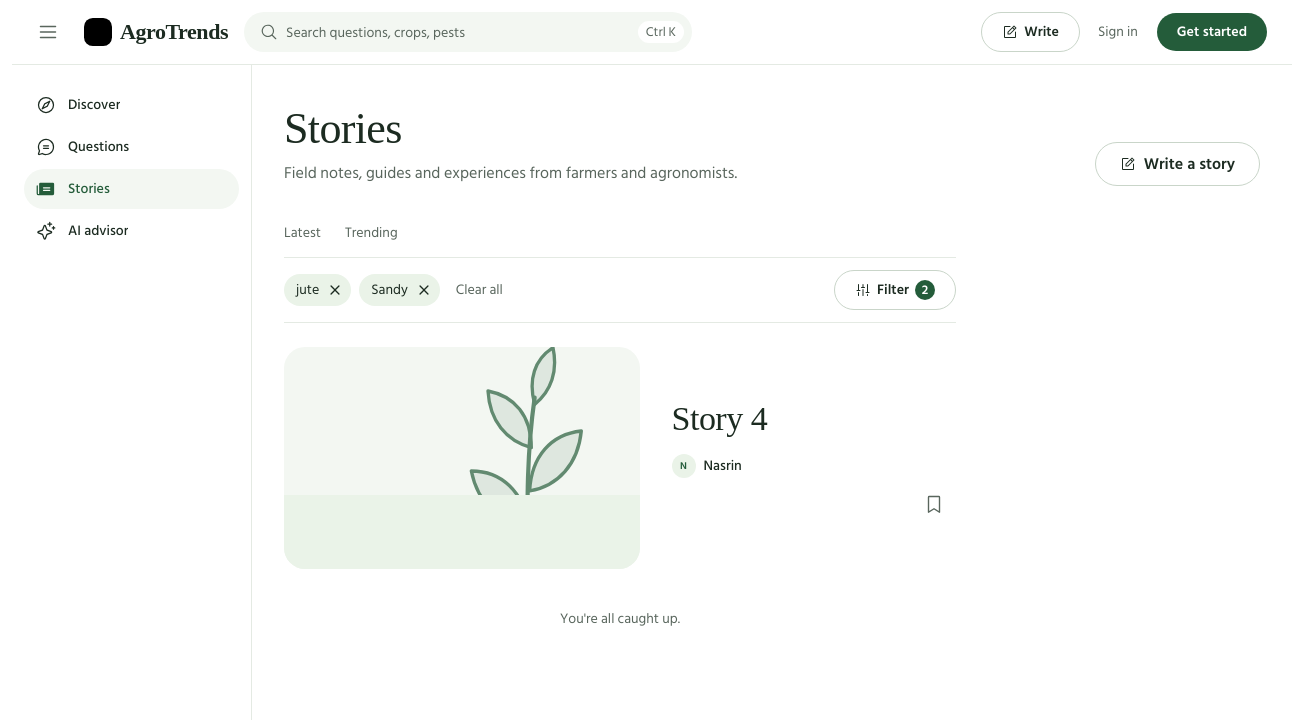
Test case: active filters can be removed one at a time
Expected: the link "Story 4" is shown, [672,400,767,437]
Click the link named "Remove filter soil Sandy" at [424, 290], box [417,283,431,297]
(page scrolled)
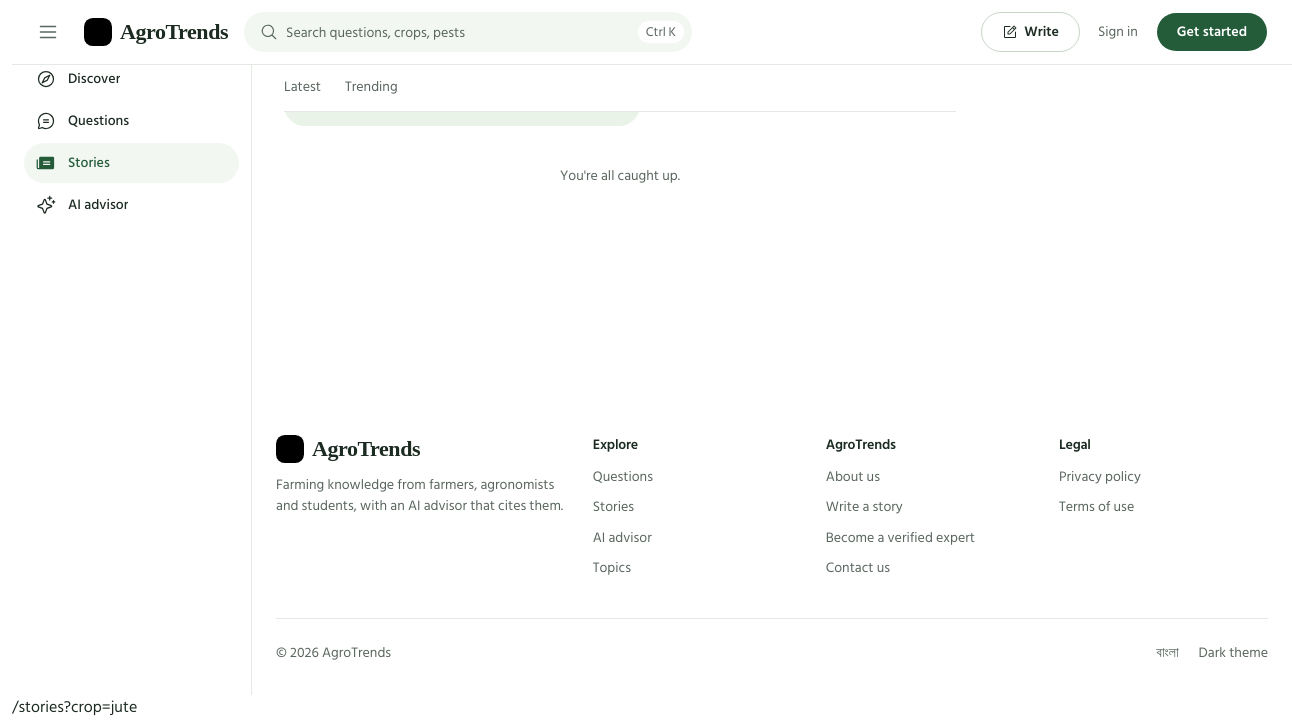
Now the text with test id "path" reads "/stories?crop=jute", box [12,694,137,719]
Now the link "Clear all" is gone
